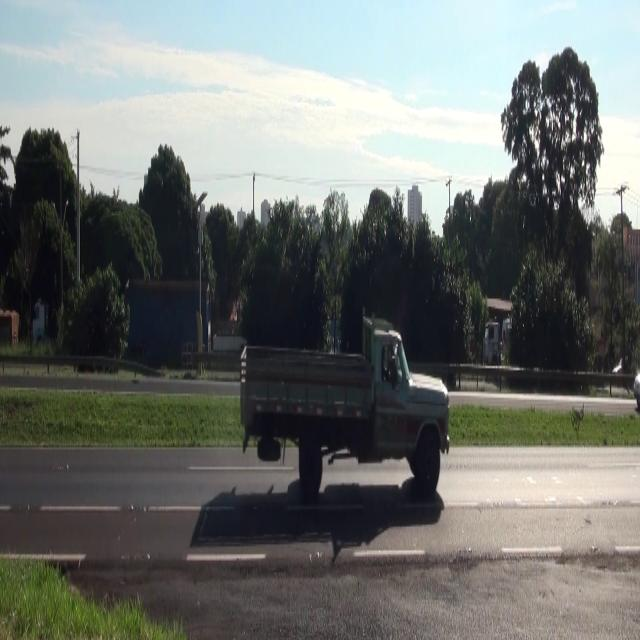-axle: (414, 422, 442, 485), (298, 440, 324, 501)
